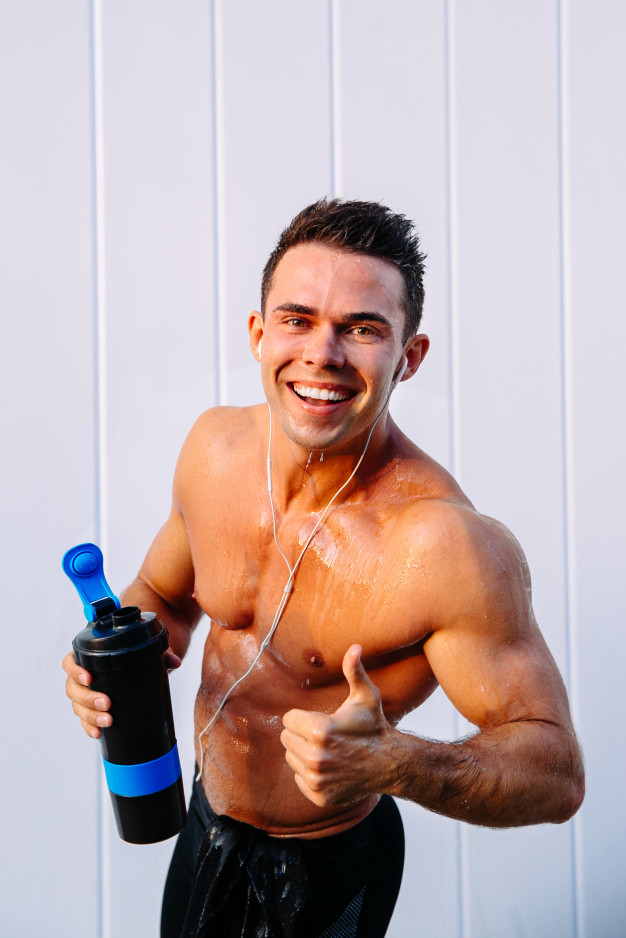thumbsup: (279, 642, 370, 809)
